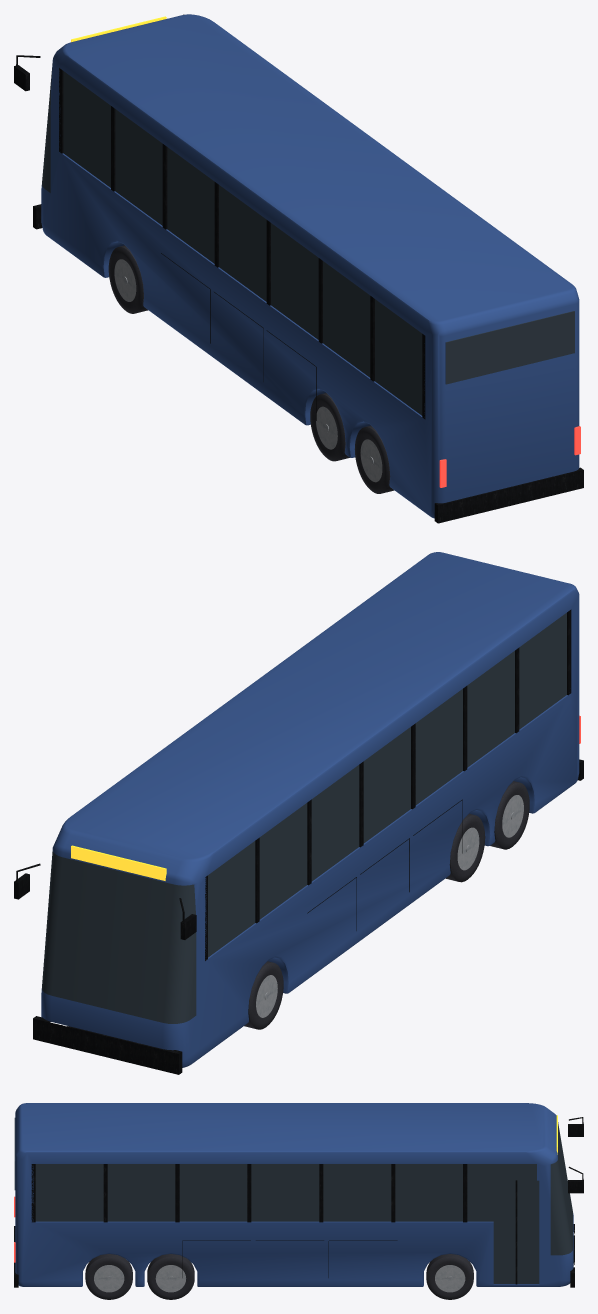
Rendered from coach_blue.gltf.
The picture shows the model from 3 angles, top to bottom: view 1: azimuth 30°, elevation 25°; view 2: azimuth 150°, elevation 25°; view 3: azimuth 270°, elevation 25°; orthographic projection. The views are drawn at different scales.
Parts seen in each view (by area): view 1: coach_blue; view 2: coach_blue; view 3: coach_blue.
Boxes of the visible parts, box(x1,y1,x2,y2) form: coach_blue: box(14, 14, 583, 523); coach_blue: box(14, 552, 583, 1074); coach_blue: box(14, 1103, 583, 1299).
Bounding box in the file's own units: 2.99 × 3.6 × 12.46.
10 materials, 4 textured.
